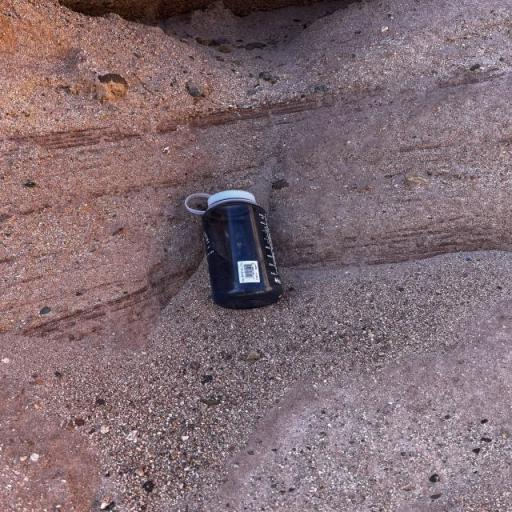bottle: (185, 190, 284, 310)
